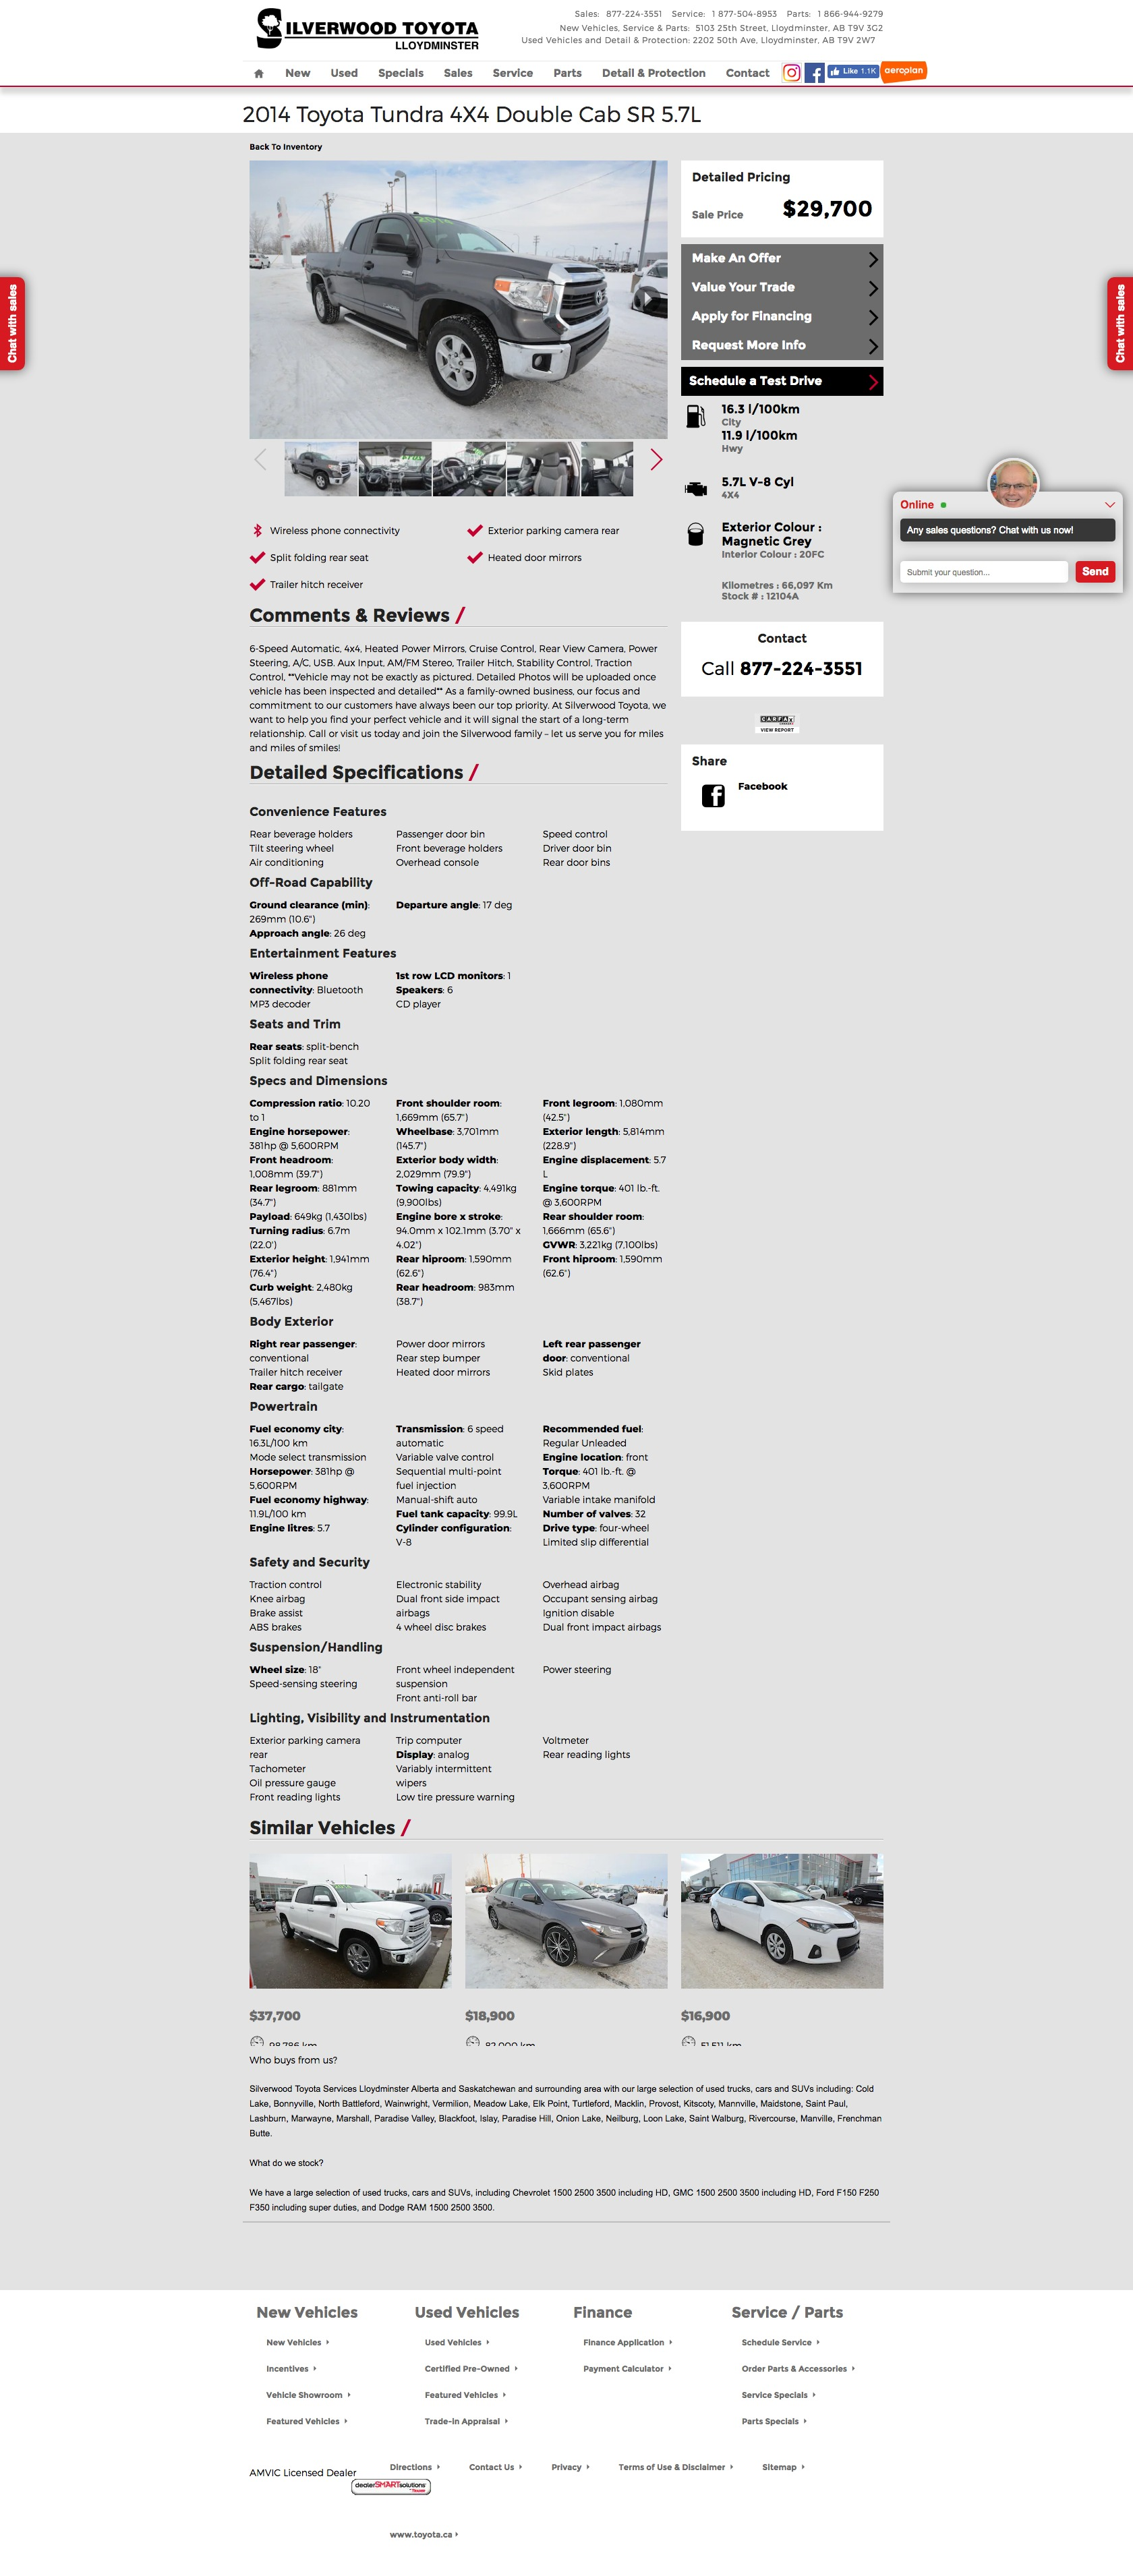car: (650, 448, 663, 471)
